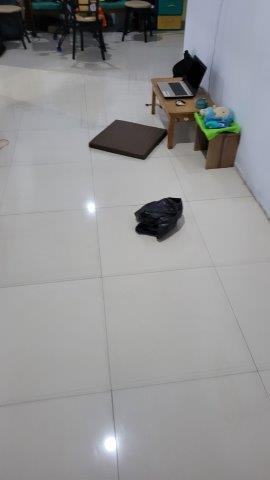plastik: (133, 197, 182, 240)
